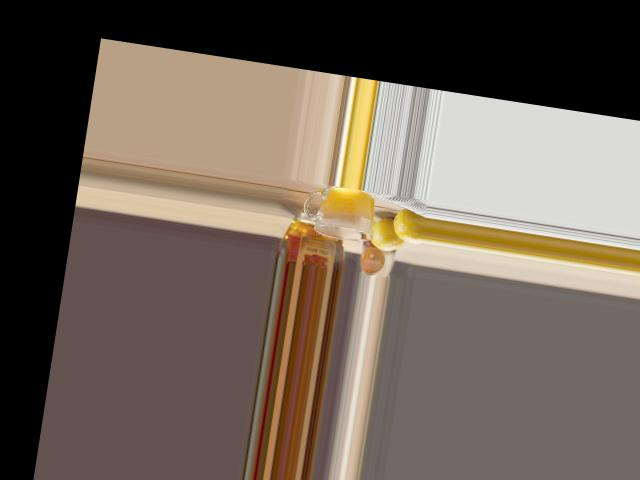lemon: (394, 209, 424, 241)
